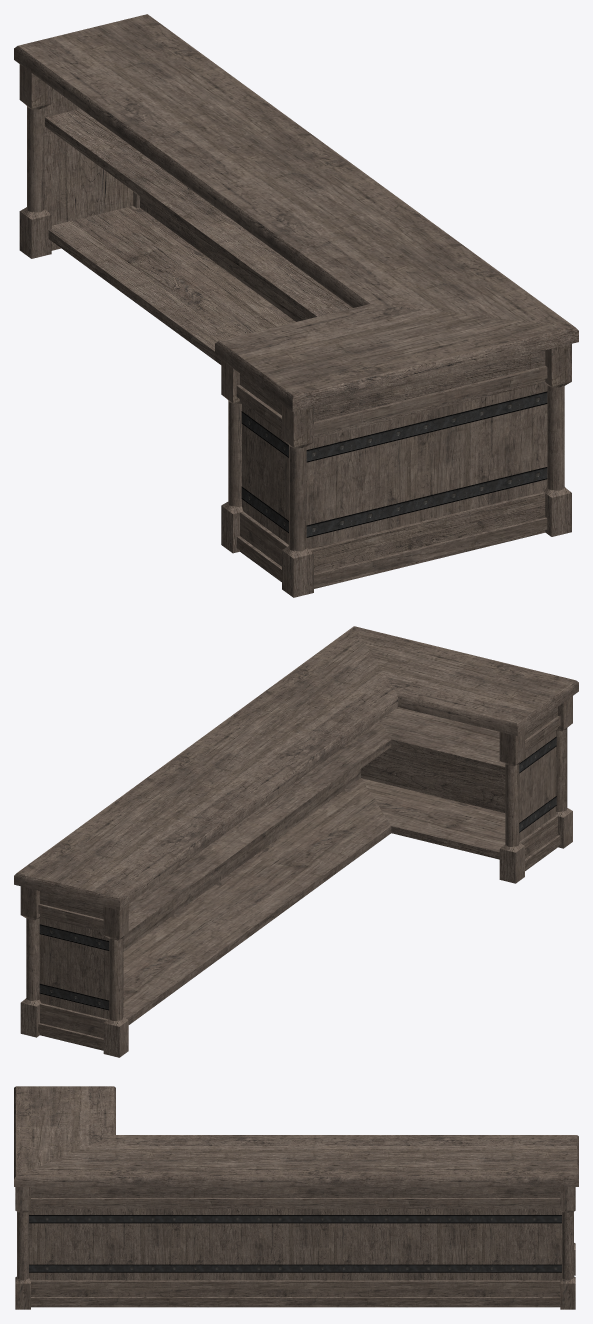
Rendered from mw_bar_02_02.FBX.
The picture shows the model from 3 angles, top to bottom: view 1: azimuth 30°, elevation 25°; view 2: azimuth 150°, elevation 25°; view 3: azimuth 270°, elevation 25°; orthographic projection. The views are drawn at different scales.
Visible parts, largest first — view 1: mw_bar_02_02; view 2: mw_bar_02_02; view 3: mw_bar_02_02.
Boxes of the visible parts, x1,y1,x2,y2 form: mw_bar_02_02: (14, 14, 578, 597); mw_bar_02_02: (14, 626, 578, 1057); mw_bar_02_02: (14, 1086, 578, 1309).
Bounding box in the file's own units: 179 × 122 × 465.
